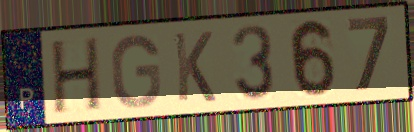3: (230, 23, 277, 103)
6: (287, 17, 338, 101)
7: (344, 13, 395, 95)
G: (108, 32, 163, 111)
H: (50, 34, 103, 118)
K: (171, 29, 219, 105)
